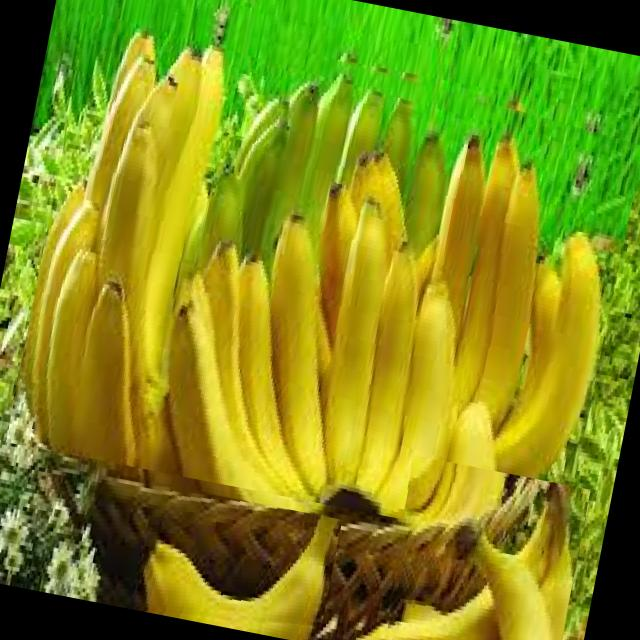Organic: (6, 0, 640, 551), (373, 455, 590, 640), (134, 484, 342, 640), (353, 614, 378, 640)
